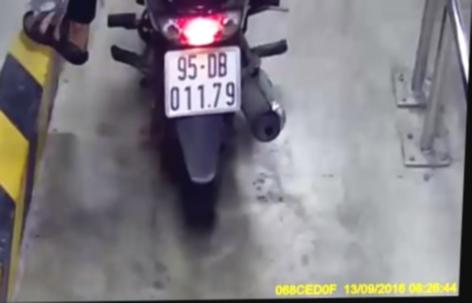License_Plate: (156, 45, 244, 118)
